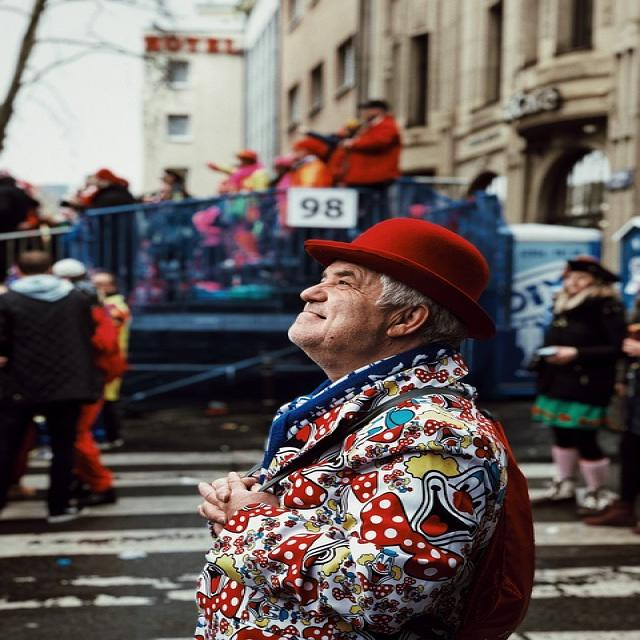Real human 2: (174, 201, 578, 640)
